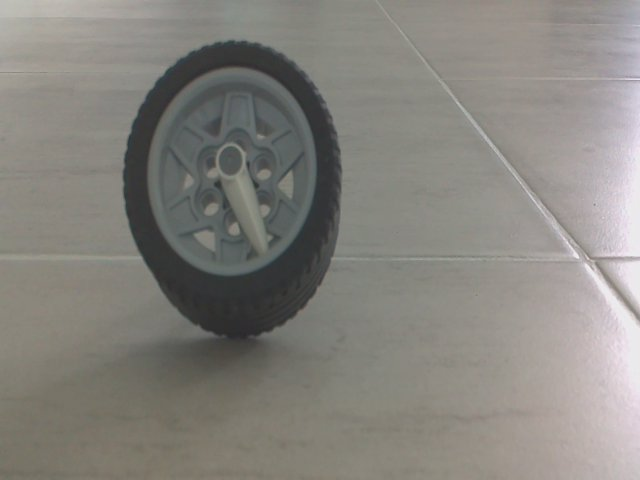Rad+Grau_lang+Kappe: (119, 34, 351, 346)
